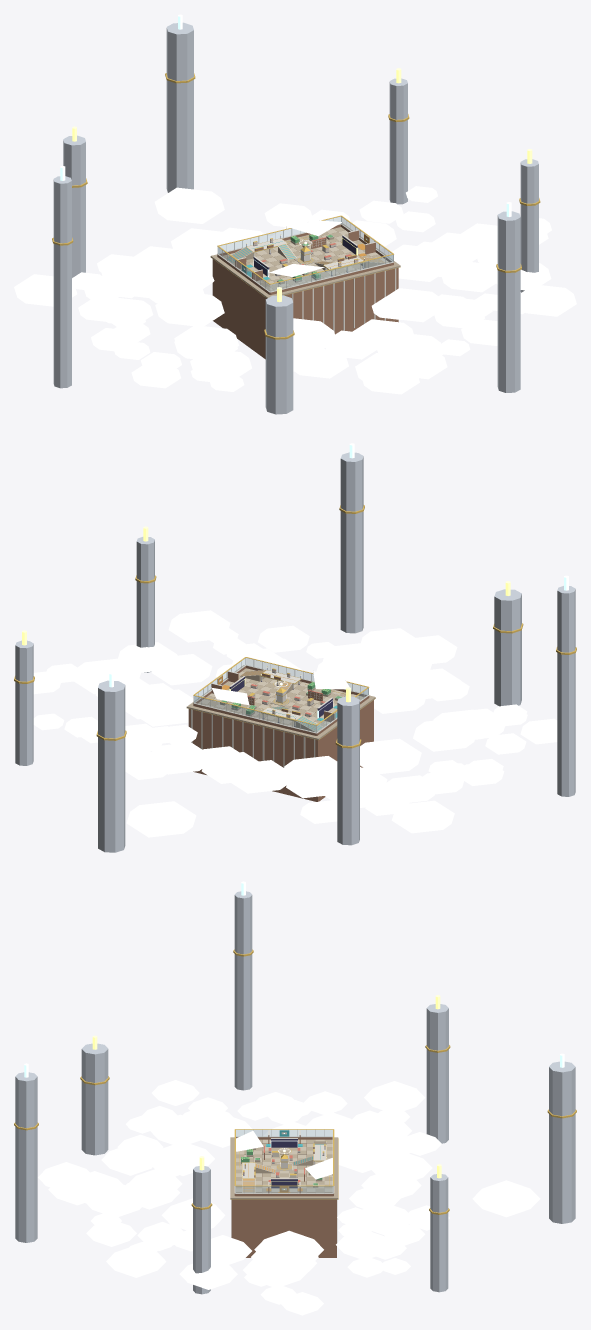
Rendered from zenith_visual.glb.
The picture shows the model from 3 angles, top to bottom: view 1: azimuth 30°, elevation 25°; view 2: azimuth 150°, elevation 25°; view 3: azimuth 270°, elevation 25°; orthographic projection. The views are drawn at different scales.
Visible parts, largest first — view 1: DETAIL_batch, DETAIL_glass, VIS_floor_terrace; view 2: DETAIL_batch, DETAIL_glass, VIS_floor_terrace; view 3: DETAIL_batch, VIS_floor_terrace, DETAIL_glass.
Part boxes in pixels (left/top/right/bottom): DETAIL_batch: left=14, top=14, right=576, bottom=414; DETAIL_glass: left=218, top=217, right=393, bottom=291; VIS_floor_terrace: left=227, top=229, right=387, bottom=290; DETAIL_batch: left=14, top=443, right=576, bottom=852; DETAIL_glass: left=194, top=658, right=368, bottom=732; VIS_floor_terrace: left=199, top=670, right=359, bottom=730; DETAIL_batch: left=14, top=881, right=576, bottom=1315; VIS_floor_terrace: left=236, top=1139, right=332, bottom=1192; DETAIL_glass: left=235, top=1130, right=333, bottom=1192.
Bounding box in the file's own units: 257 × 111 × 252.
